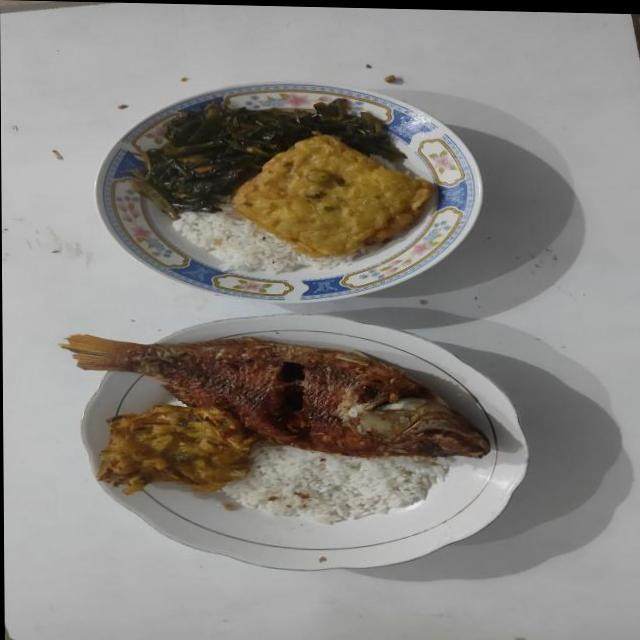ikan_mujair: (63, 335, 490, 458)
nasi_putih: (223, 445, 454, 525), (172, 203, 352, 274)
tumis_kangkung: (137, 96, 403, 219)
